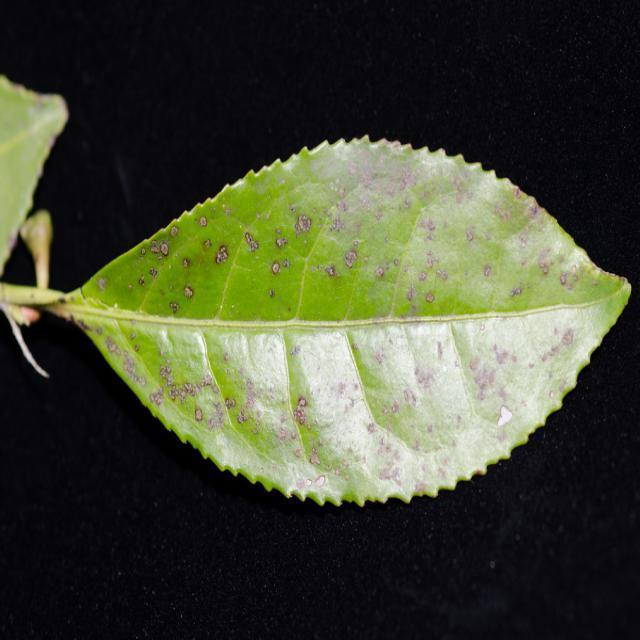Tea red rust: (73, 154, 599, 502)
